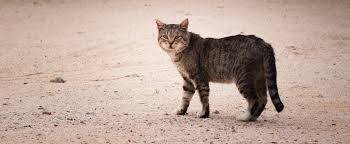cat: (154, 18, 285, 123)
